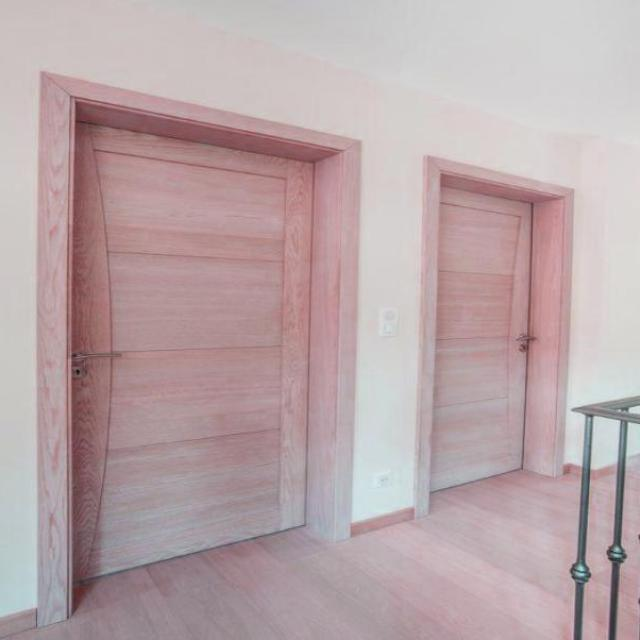door: (37, 62, 385, 636), (402, 143, 591, 531)
